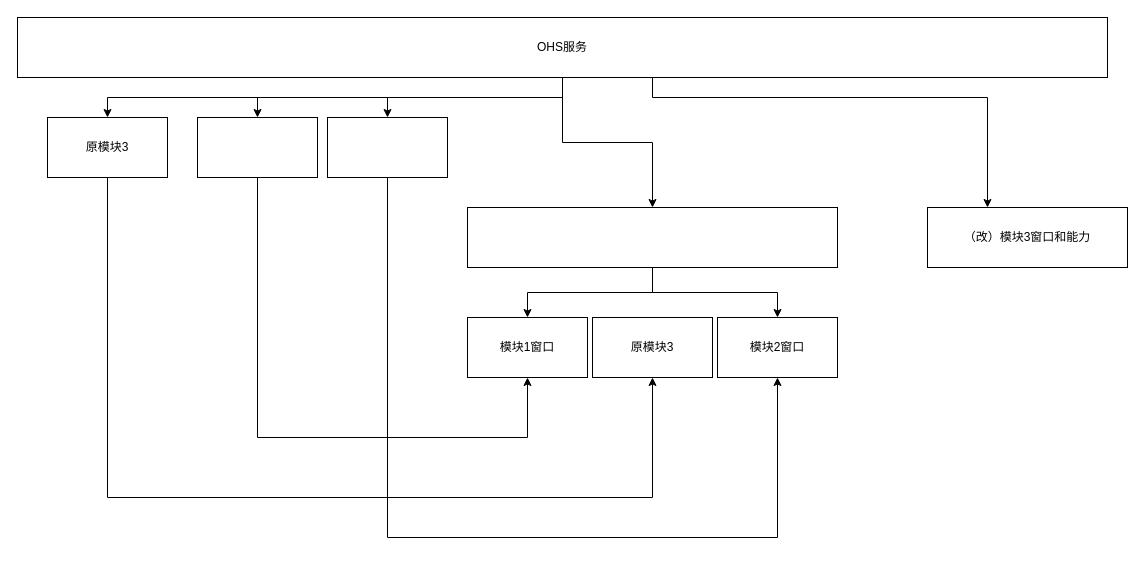
Some shapes in this 1145 by 563 pixel diagram are drawn without their labels. Each missing label, with the box of its shape:
OHS窗口: (466, 206, 838, 268)
模块1能力: (196, 116, 318, 178)
模块2能力: (326, 116, 448, 178)
